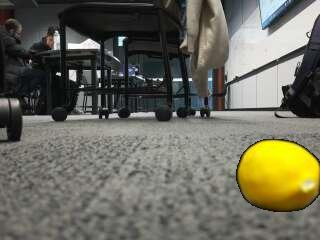lemon: (237, 139, 320, 212)
